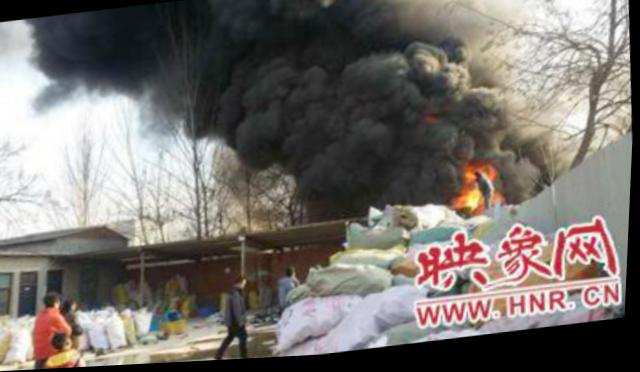fire: (450, 189, 484, 213), (479, 166, 497, 184), (462, 163, 475, 184)
